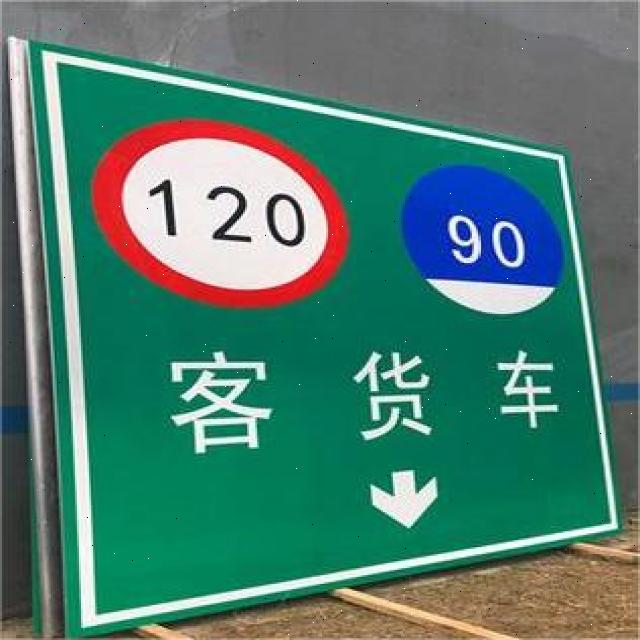speed limit 120: (90, 115, 351, 310)
speed limit 90: (399, 165, 563, 315)
